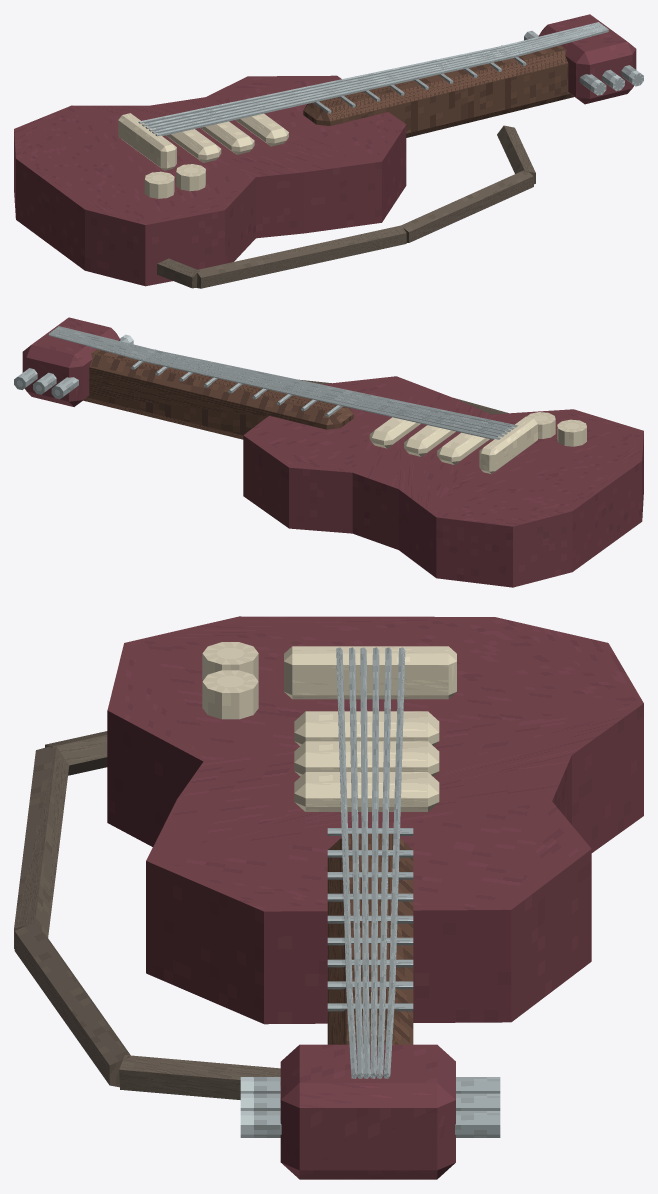
The model's file is guitar_electric.glb.
3 views of the same model, one above another, from view 1: azimuth 30°, elevation 25°; view 2: azimuth 150°, elevation 25°; view 3: azimuth 270°, elevation 25° (orthographic). The views are drawn at different scales.
Visible parts, largest first — view 1: block_contoured instrument body, block_neck and headstock, block_instrument string 0 (×6), block_carrying strap 1, block_tuning head, block_pickup and bridge (×3), block_carrying strap 2, block_string bridge, block_volume or tone knob (×2), block_carrying strap 3, block_carrying strap 0, block_instrument string 1; view 2: block_contoured instrument body, block_neck and headstock, block_instrument string 0 (×6), block_tuning head, block_pickup and bridge (×3), block_string bridge, block_volume or tone knob (×2), block_instrument string 1; view 3: block_contoured instrument body, block_tuning head, block_instrument string 0 (×6), block_pickup and bridge (×3), block_neck and headstock, block_string bridge, block_carrying strap 1, block_carrying strap 2, block_carrying strap 3, block_volume or tone knob (×2), block_tuning key (×3), block_carrying strap 0.
Boxes of the visible parts, bbox=[...] form: block_contoured instrument body: bbox=[14, 75, 406, 286]; block_neck and headstock: bbox=[303, 45, 573, 137]; block_instrument string 0 (×6): bbox=[138, 46, 512, 136]; block_carrying strap 1: bbox=[196, 225, 406, 288]; block_tuning head: bbox=[538, 14, 636, 104]; block_pickup and bridge (×3): bbox=[166, 113, 288, 162]; block_carrying strap 2: bbox=[401, 169, 533, 242]; block_string bridge: bbox=[118, 113, 176, 170]; block_volume or tone knob (×2): bbox=[144, 164, 205, 198]; block_carrying strap 3: bbox=[497, 125, 535, 184]; block_carrying strap 0: bbox=[157, 258, 199, 288]; block_instrument string 1: bbox=[512, 28, 608, 57]; block_contoured instrument body: bbox=[243, 376, 643, 587]; block_neck and headstock: bbox=[83, 349, 353, 439]; block_instrument string 0 (×6): bbox=[144, 350, 517, 439]; block_tuning head: bbox=[22, 317, 120, 406]; block_pickup and bridge (×3): bbox=[369, 417, 489, 464]; block_string bridge: bbox=[479, 416, 537, 473]; block_volume or tone knob (×2): bbox=[526, 412, 586, 446]; block_instrument string 1: bbox=[48, 332, 145, 361]; block_contoured instrument body: bbox=[107, 616, 643, 1024]; block_tuning head: bbox=[280, 1044, 455, 1179]; block_instrument string 0 (×6): bbox=[336, 647, 405, 990]; block_pickup and bridge (×3): bbox=[294, 711, 439, 811]; block_neck and headstock: bbox=[327, 834, 413, 1044]; block_string bridge: bbox=[284, 646, 456, 699]; block_carrying strap 1: bbox=[14, 744, 69, 948]; block_carrying strap 2: bbox=[14, 922, 130, 1087]; block_carrying strap 3: bbox=[119, 1055, 280, 1099]; block_volume or tone knob (×2): bbox=[202, 642, 258, 719]; block_tuning key (×3): bbox=[240, 1093, 500, 1137]; block_carrying strap 0: bbox=[45, 731, 107, 775].
Size of the model in its own units: 0.97 by 0.1511 by 0.506.
Materials: 1 (1 with a texture image).
